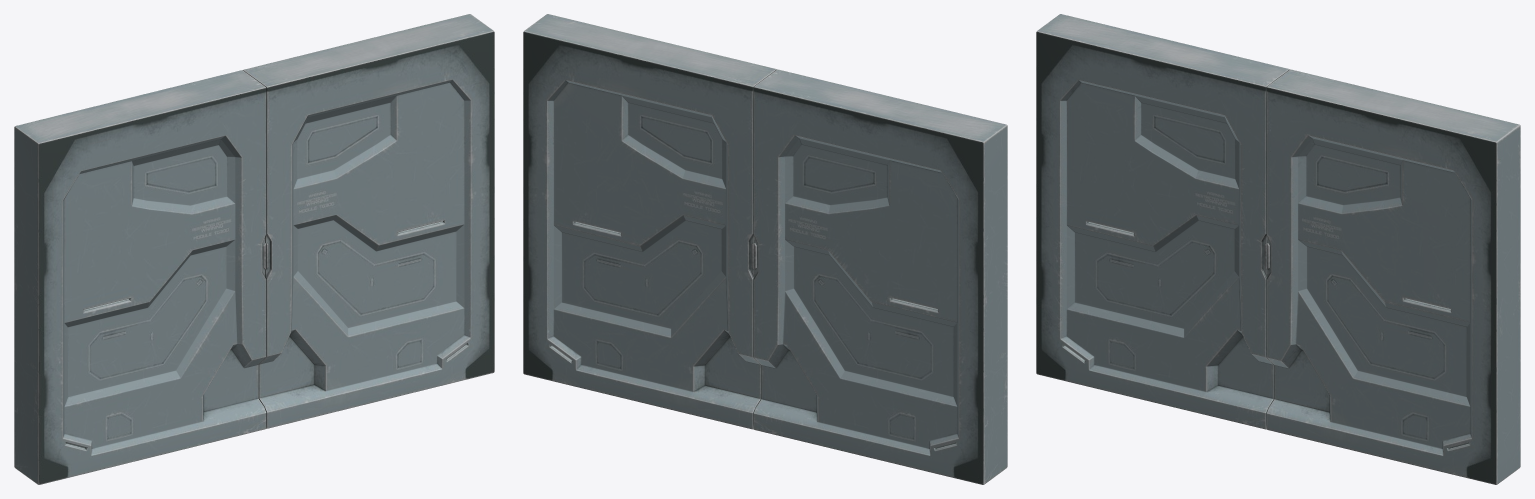
Rendered from Sketchfab_Scene (5).glb.
The picture shows the model from 3 angles, left to right: view 1: azimuth 30°, elevation 25°; view 2: azimuth 150°, elevation 25°; view 3: azimuth 330°, elevation 25°; orthographic projection.
Visible parts, largest first — view 1: Low_R, Low_L; view 2: Low_R, Low_L; view 3: Low_L, Low_R.
Boxes of the visible parts, left/top/right/bottom form: Low_R: left=14, top=70, right=266, bottom=484; Low_L: left=243, top=14, right=494, bottom=428; Low_R: left=753, top=69, right=1007, bottom=484; Low_L: left=523, top=14, right=776, bottom=429; Low_L: left=1266, top=69, right=1520, bottom=484; Low_R: left=1036, top=14, right=1289, bottom=429.
Bounding box in the file's own units: 27.96 × 19.95 × 2.73.
1 material, 1 textured.
